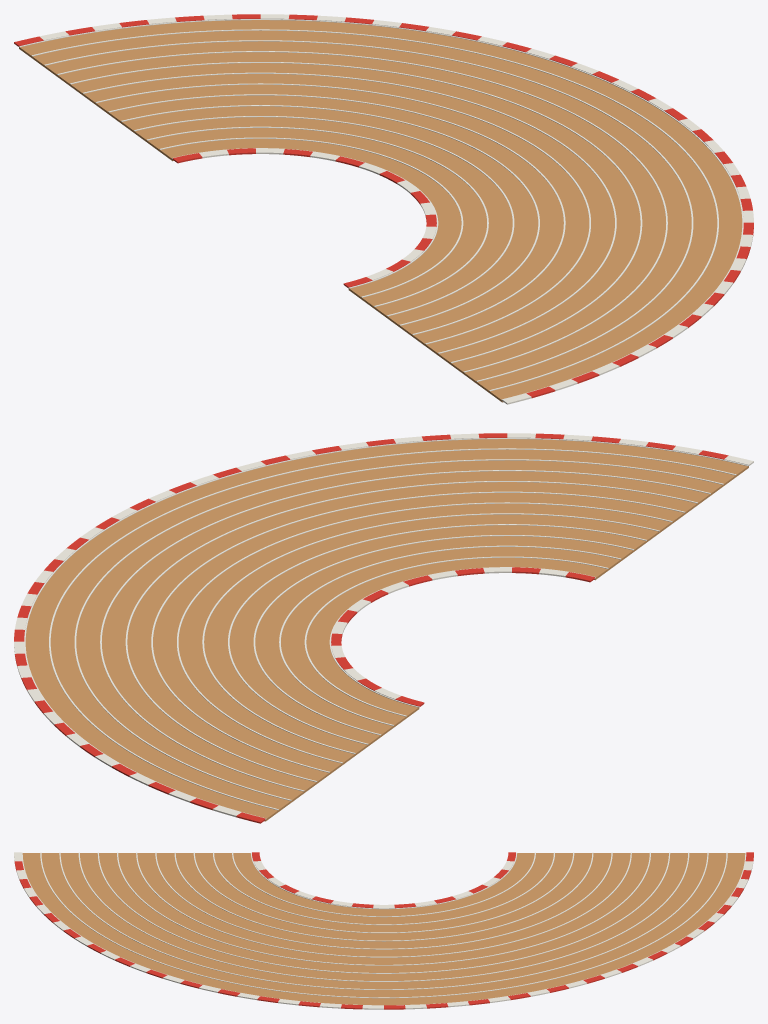
File: RockinRacewayTurn.obj
3 renders of one model, top to bottom at view 1: azimuth 30°, elevation 25°; view 2: azimuth 150°, elevation 25°; view 3: azimuth 270°, elevation 25°, orthographic. The views are drawn at different scales.
Visible parts, largest first — view 1: Dirt, Lines, CurbRed, CurbWhite; view 2: Dirt, Lines, CurbRed, CurbWhite; view 3: Dirt, Lines, CurbRed, CurbWhite.
Boxes of the visible parts, x1,y1,x2,y2 form: Dirt: (19, 20, 742, 402); Lines: (18, 19, 743, 400); CurbRed: (14, 14, 753, 398); CurbWhite: (39, 14, 753, 404); Dirt: (25, 439, 748, 821); Lines: (24, 438, 749, 819); CurbRed: (14, 433, 728, 823); CurbWhite: (14, 433, 753, 817); Dirt: (22, 853, 745, 1005); Lines: (21, 852, 746, 1005); CurbRed: (14, 852, 753, 1009); CurbWhite: (14, 852, 753, 1009).
Size of the model in its own units: 86.8 by 0.58 by 174.
